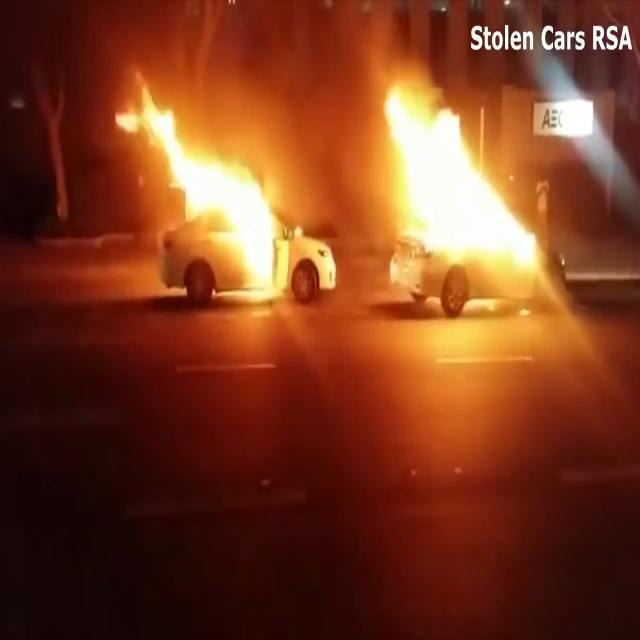fire: (117, 89, 286, 300), (374, 75, 546, 281)
